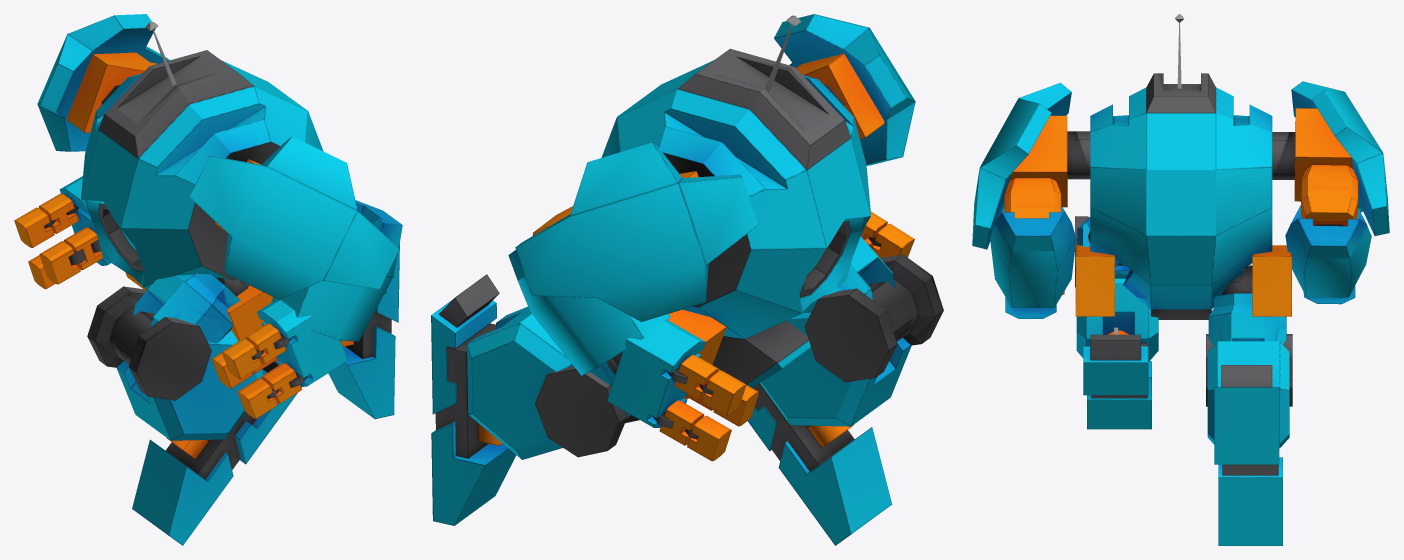
The model's file is Walk11.obj.
3 renders of one model, left to right at view 1: azimuth 30°, elevation 25°; view 2: azimuth 150°, elevation 25°; view 3: azimuth 270°, elevation 25°, orthographic. The views are drawn at different scales.
Visible parts, largest first — view 1: Plane001, Object006, Object013, Object002, Object014, Object008, Object004, Object011, Object007, Object012; view 2: Plane001, Object002, Object013, Object010, Object011, Object004, Object014, Object006, Object003, Object012, Object008; view 3: Plane001, Object011, Object002, Object006, Object007, Object014, Object003, Object010, Object009, Object013, Object005, Object001 (+2 smaller).
Part boxes in pixels (<box>): Plane001: <box>81,50,323,341</box>; Object006: <box>189,136,399,299</box>; Object013: <box>87,286,263,440</box>; Object002: <box>37,14,169,151</box>; Object014: <box>132,359,301,545</box>; Object008: <box>211,300,347,418</box>; Object004: <box>14,176,110,288</box>; Object011: <box>328,243,399,419</box>; Object007: <box>271,200,402,341</box>; Object012: <box>133,273,249,342</box>; Plane001: <box>601,48,870,399</box>; Object002: <box>515,142,758,321</box>; Object013: <box>760,254,943,426</box>; Object010: <box>467,306,639,459</box>; Object011: <box>431,274,516,525</box>; Object004: <box>606,320,759,461</box>; Object014: <box>748,383,892,545</box>; Object006: <box>774,14,915,165</box>; Object003: <box>508,250,670,375</box>; Object012: <box>802,236,895,313</box>; Object008: <box>861,211,914,257</box>; Plane001: <box>1075,73,1291,319</box>; Object011: <box>1214,365,1282,545</box>; Object002: <box>1291,81,1389,235</box>; Object006: <box>972,82,1071,249</box>; Object007: <box>990,205,1076,307</box>; Object014: <box>1083,330,1151,429</box>; Object003: <box>1285,205,1371,297</box>; Object010: <box>1206,334,1292,448</box>; Object009: <box>1208,265,1286,345</box>; Object013: <box>1075,216,1158,361</box>; Object005: <box>1067,131,1090,179</box>; Object001: <box>1272,132,1295,179</box>.
Bounding box in the file's own units: 152 × 204 × 182.
